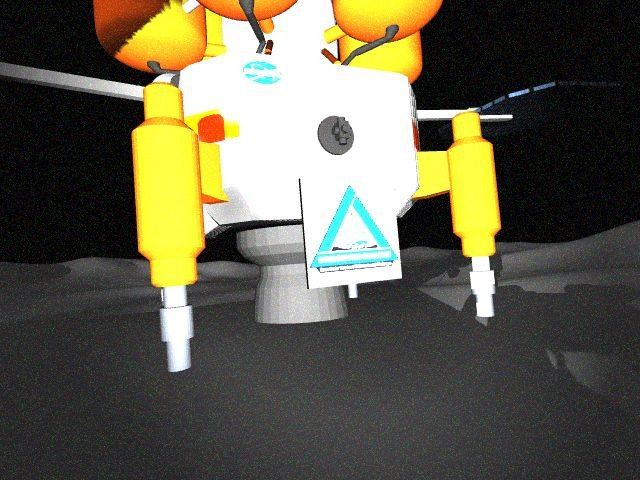basemarker: (309, 183, 400, 274)
